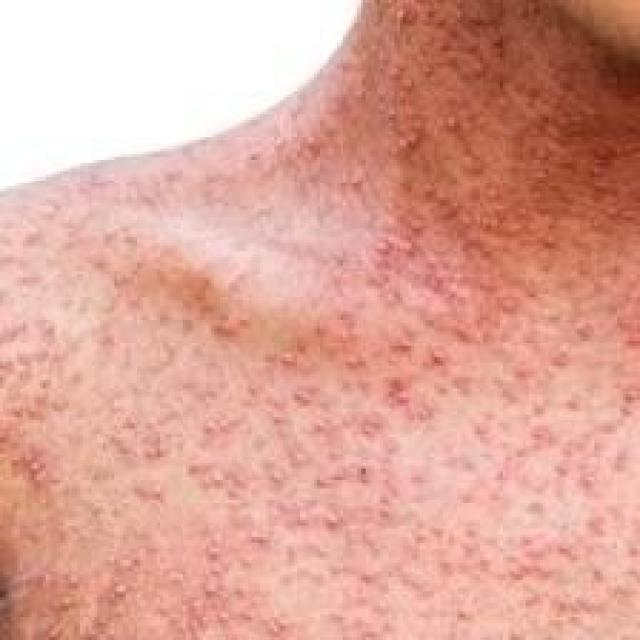others: (8, 3, 639, 627)
